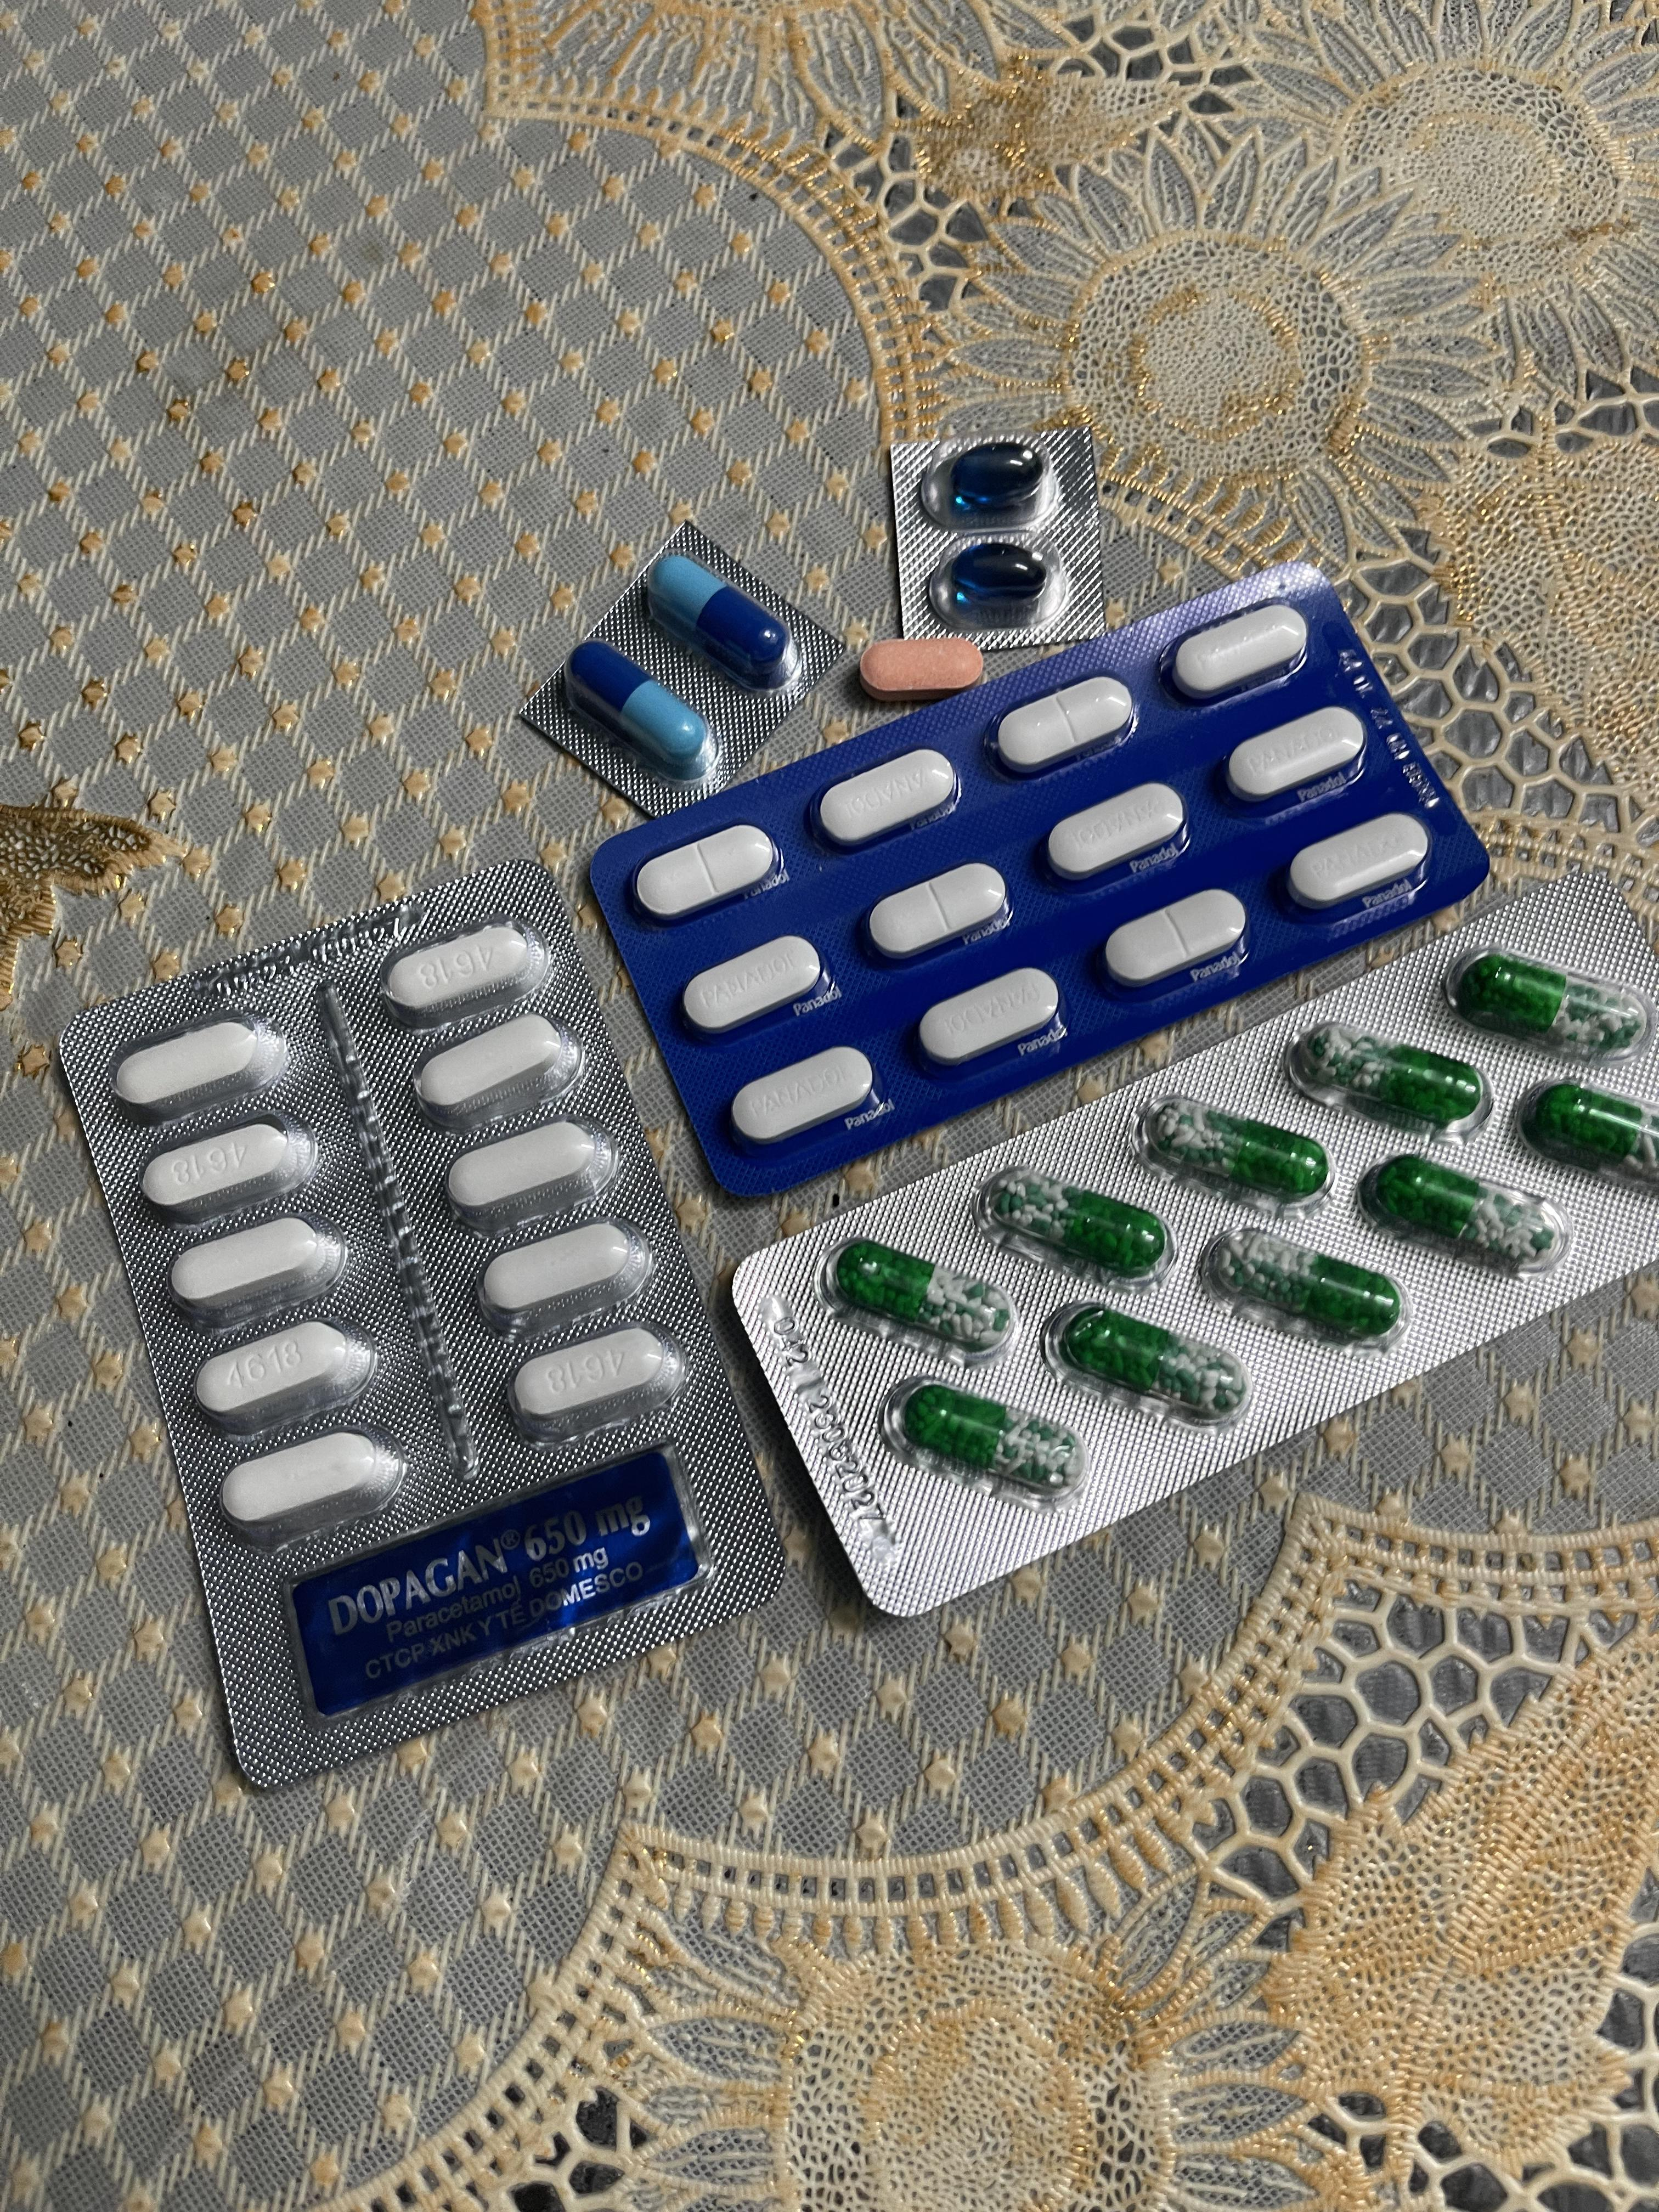Lincomyxin_500mg: (948, 540, 1051, 611), (948, 441, 1046, 512)
Loratadine_10mg: (857, 637, 981, 700)
Paracetamol_350mg: (636, 817, 788, 923), (1284, 812, 1436, 916), (816, 747, 964, 852), (917, 967, 1065, 1071), (864, 862, 1014, 965), (681, 935, 830, 1038), (732, 1049, 882, 1150), (1098, 890, 1243, 995), (990, 676, 1134, 779), (1044, 780, 1185, 883), (1225, 704, 1364, 805), (1166, 601, 1307, 700)
Paracetamol_500mg: (193, 1312, 376, 1433), (511, 1322, 688, 1444), (166, 1209, 345, 1325), (218, 1428, 404, 1540), (476, 1219, 648, 1336), (443, 1120, 617, 1233), (139, 1109, 317, 1217), (411, 1017, 579, 1129), (110, 1017, 281, 1122), (382, 920, 545, 1021)
Paracetamol_650mg: (828, 1240, 1016, 1355), (1371, 1158, 1560, 1264), (899, 1386, 1082, 1489), (1211, 1238, 1394, 1339), (1066, 1310, 1239, 1411), (1457, 956, 1645, 1049), (1300, 1029, 1480, 1122), (993, 1170, 1159, 1266), (1148, 1109, 1319, 1202), (1521, 1080, 1659, 1188)
pill: (568, 641, 721, 782), (648, 552, 791, 676)
